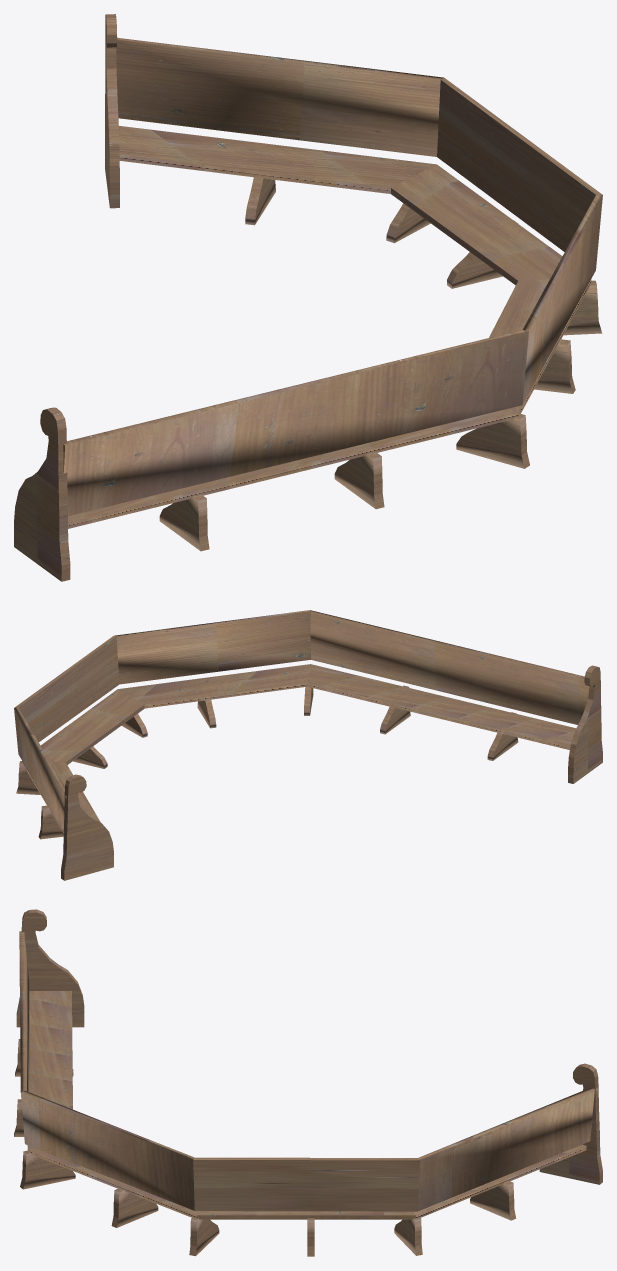
The model's file is Benches.fbx.
3 views of the same model, one above another, from view 1: azimuth 30°, elevation 25°; view 2: azimuth 150°, elevation 25°; view 3: azimuth 270°, elevation 25° (orthographic). The views are drawn at different scales.
Visible parts, largest first — view 1: Backrest, Seat, SidePane2, SidePane1, Stand6, Stand7, Stand8, Stand5, Stand4, Stand3, Stand1, Stand2; view 2: Backrest, Seat, SidePane1, SidePane2, Stand1, Stand8, Stand7, Stand2, Stand3; view 3: Backrest, Seat, SidePane2, SidePane1, Stand6, Stand5, Stand1, Stand4, Stand2.
Part boxes in pixels (bbox=[...]): Backrest: bbox=[63, 38, 602, 516]; Seat: bbox=[68, 126, 591, 528]; SidePane2: bbox=[14, 407, 70, 581]; SidePane1: bbox=[105, 14, 119, 208]; Stand6: bbox=[456, 413, 529, 468]; Stand7: bbox=[334, 451, 384, 509]; Stand8: bbox=[159, 494, 209, 551]; Stand5: bbox=[534, 339, 575, 393]; Stand4: bbox=[563, 280, 602, 335]; Stand3: bbox=[447, 220, 518, 288]; Stand1: bbox=[245, 177, 275, 225]; Stand2: bbox=[386, 203, 430, 243]; Backrest: bbox=[14, 610, 589, 830]; Seat: bbox=[22, 664, 575, 833]; SidePane1: bbox=[61, 774, 113, 880]; SidePane2: bbox=[568, 665, 602, 783]; Stand1: bbox=[38, 805, 63, 839]; Stand8: bbox=[487, 712, 518, 760]; Stand7: bbox=[380, 685, 410, 734]; Stand2: bbox=[16, 761, 40, 794]; Stand3: bbox=[65, 727, 107, 768]; Backrest: bbox=[19, 931, 597, 1211]; Seat: bbox=[27, 991, 586, 1219]; SidePane2: bbox=[16, 909, 84, 1027]; SidePane1: bbox=[539, 1063, 602, 1184]; Stand6: bbox=[20, 1150, 75, 1189]; Stand5: bbox=[111, 1188, 158, 1227]; Stand1: bbox=[470, 1180, 516, 1220]; Stand4: bbox=[189, 1217, 219, 1256]; Stand2: bbox=[394, 1217, 422, 1255].
Bounding box in the file's own units: 545 × 128 × 588.
11 materials, 11 textured.
